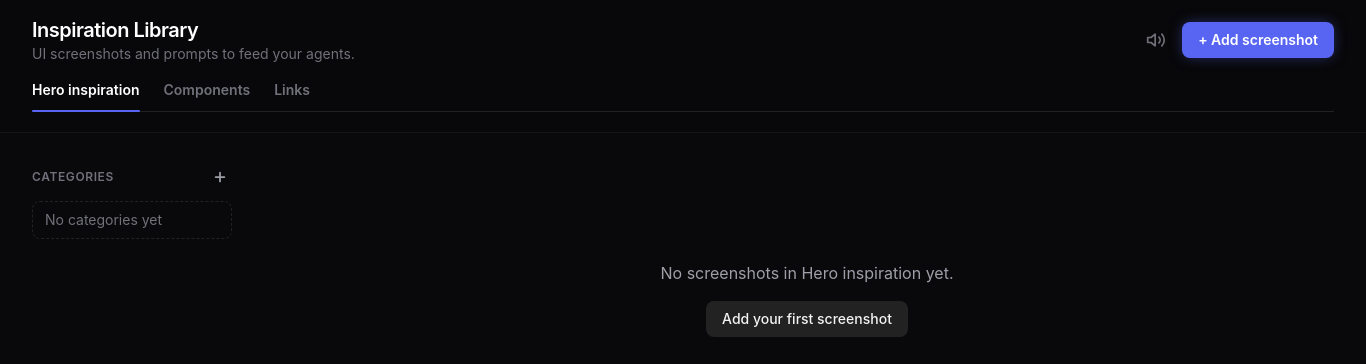
Test: App › shows a placeholder in the index when there are no categories, and adds one from the plus button
Expected: the text "No categories yet" is shown, [32, 201, 232, 239]
Click the button named "Add category". click: click(220, 177)
box: [208, 165, 232, 189]
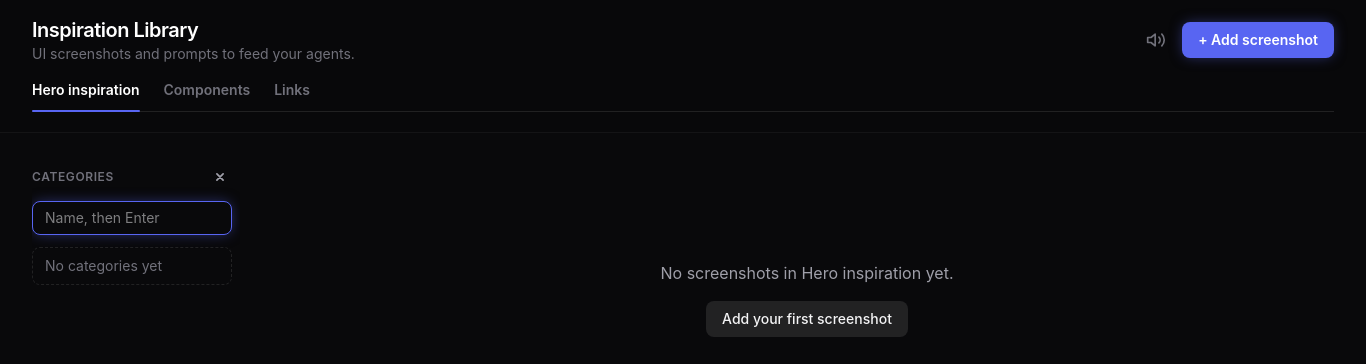
Type "Footers" into the field named "New category name". click: (132, 218)
box: [32, 201, 232, 235]
Then press Enter
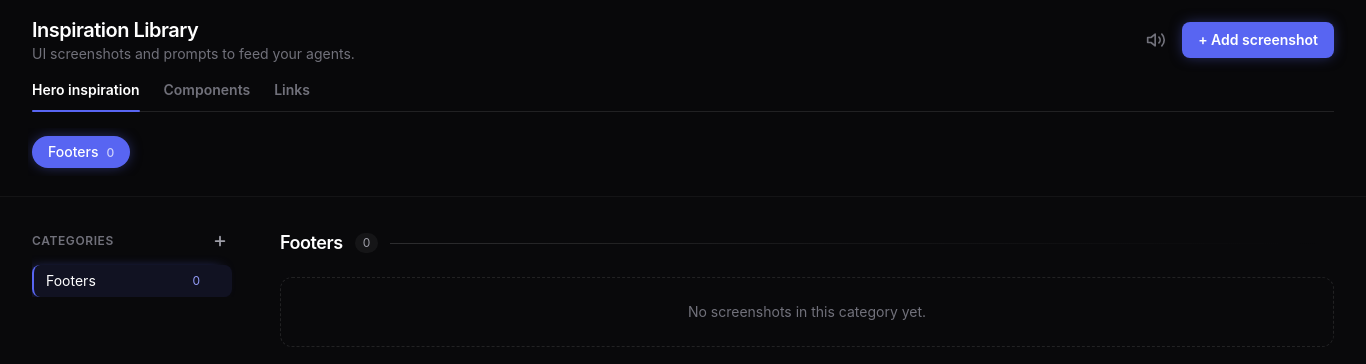
Now the button "Footers 0" is shown, box [32, 265, 232, 297]
Now the element "Footers" is shown, box [280, 229, 1334, 347]
